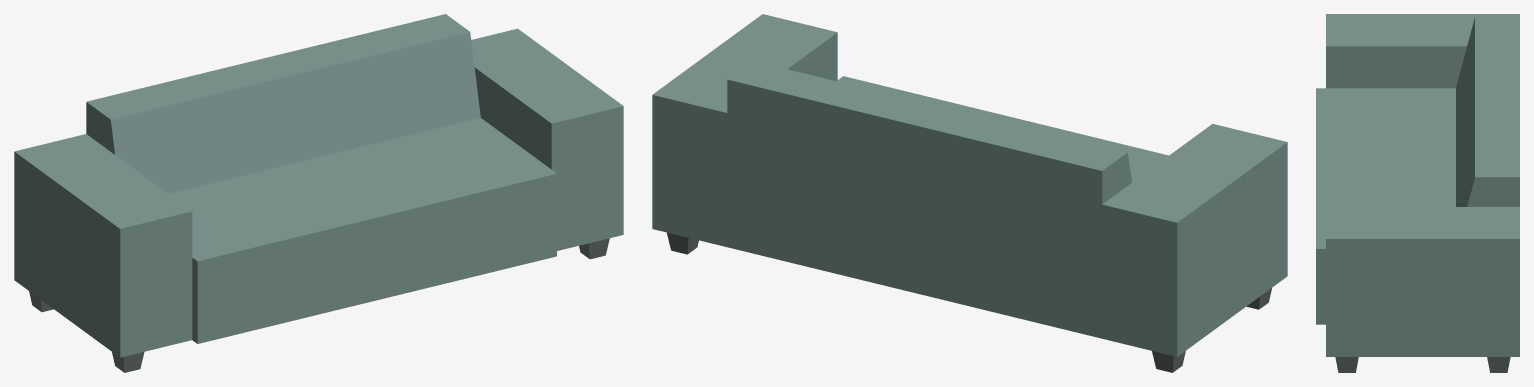
File: sofa_3seat.glb
3 views of the same model, side by side, from view 1: azimuth 30°, elevation 25°; view 2: azimuth 150°, elevation 25°; view 3: azimuth 270°, elevation 25° (orthographic). The views are drawn at different scales.
Parts seen in each view (by area): view 1: loungeDesignSofa(Clone); view 2: loungeDesignSofa(Clone); view 3: loungeDesignSofa(Clone).
Boxes of the visible parts, x1,y1,x2,y2 form: loungeDesignSofa(Clone): (14,14,623,372); loungeDesignSofa(Clone): (652,14,1287,372); loungeDesignSofa(Clone): (1316,14,1519,372).
Size of the model in its own units: 2.35 by 0.82 by 0.9.
